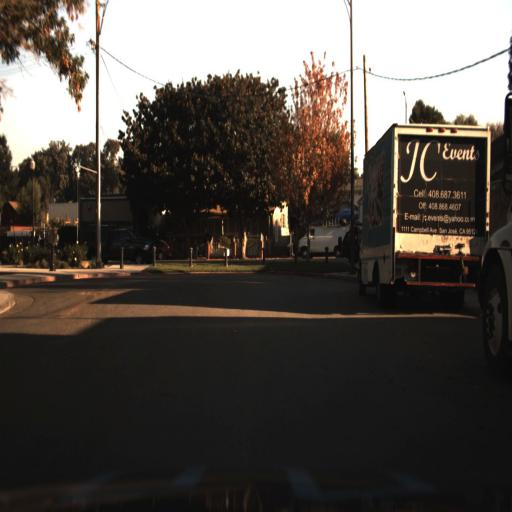car: (285, 219, 351, 257), (95, 223, 151, 266), (142, 237, 170, 261)
truck: (354, 117, 489, 311)
